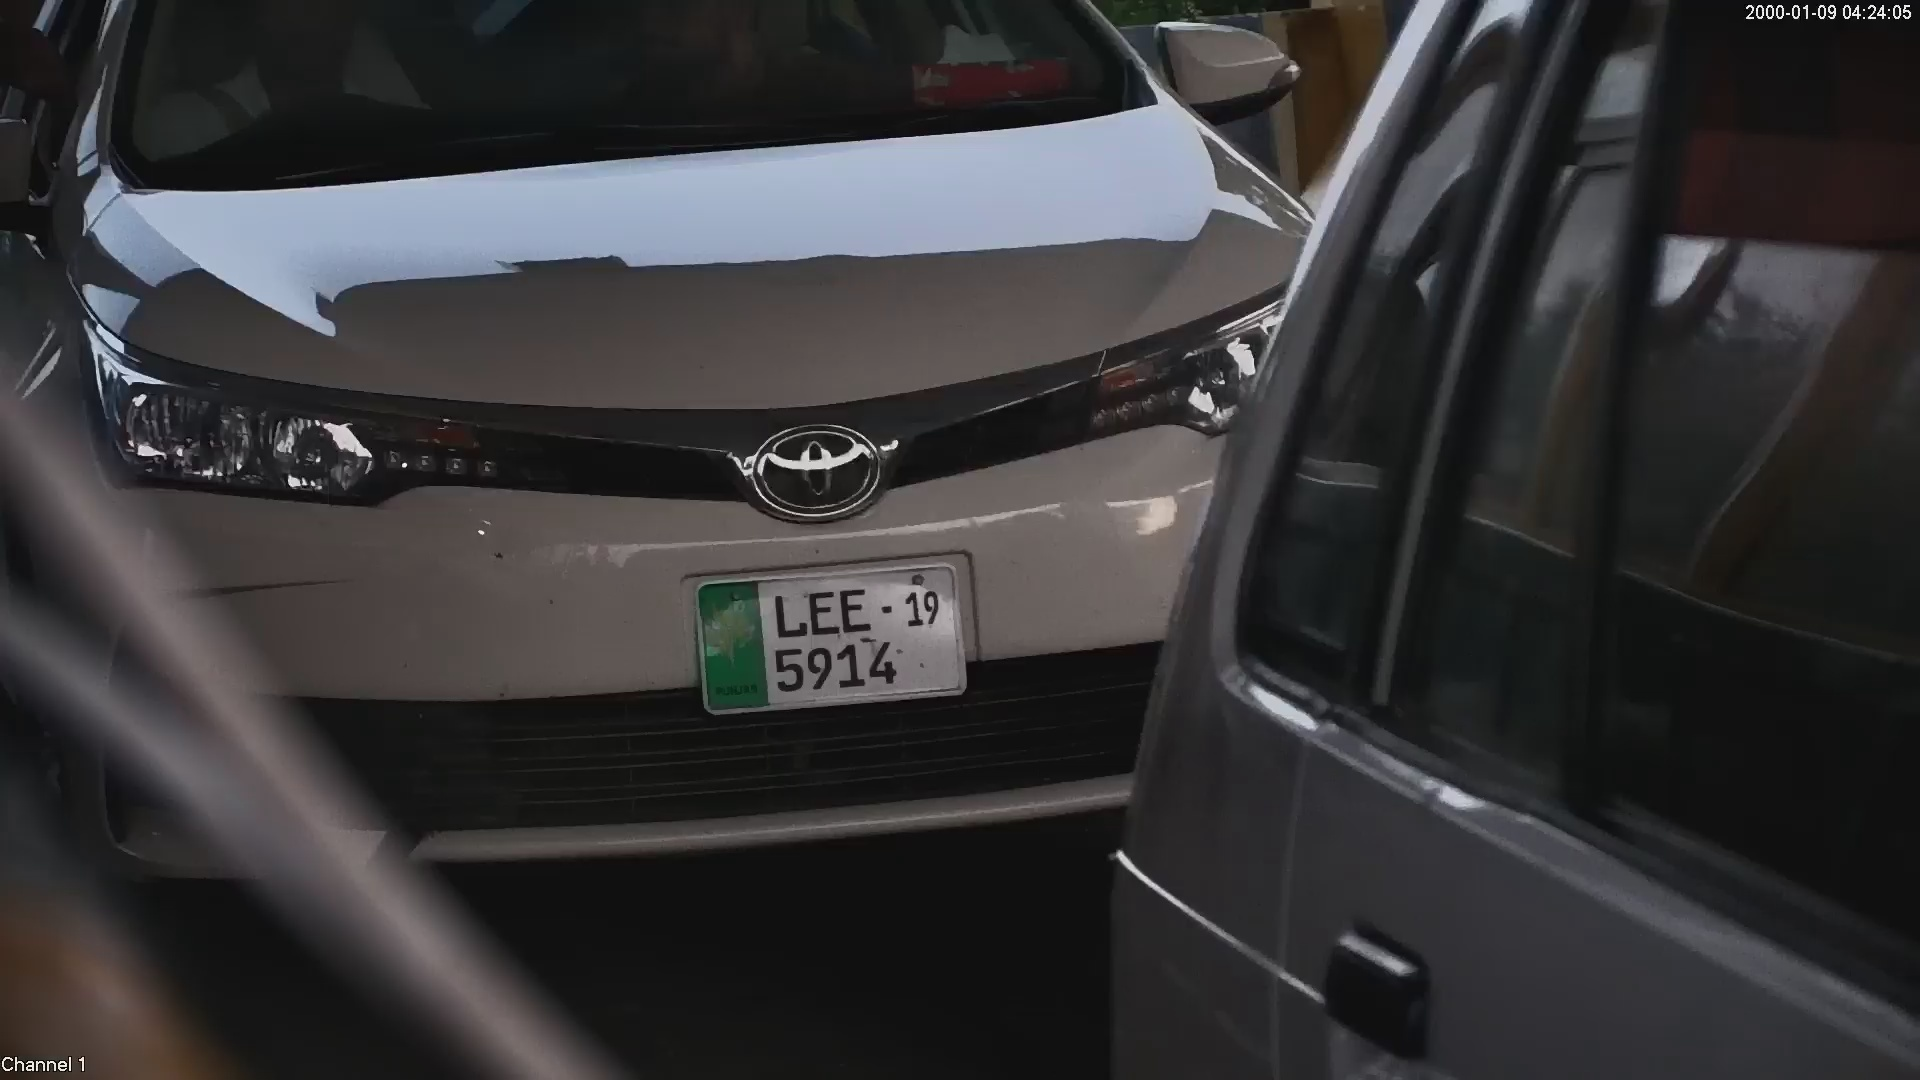Number_Plate: (687, 551, 984, 712)
Undefined: (106, 373, 371, 503), (728, 420, 900, 514)
